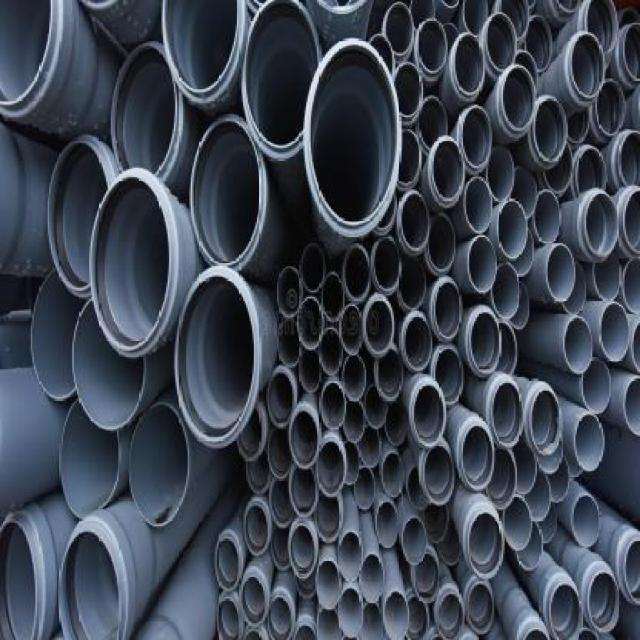pipe: (303, 40, 402, 239), (89, 168, 177, 359), (174, 266, 262, 448), (242, 2, 322, 162), (189, 114, 266, 271), (109, 42, 183, 187), (46, 137, 112, 297), (71, 299, 147, 430), (162, 0, 245, 103), (128, 403, 190, 529), (30, 269, 88, 400), (58, 397, 120, 519), (2, 0, 64, 117), (59, 527, 122, 640), (0, 520, 37, 640), (497, 66, 535, 139), (428, 137, 465, 208), (466, 511, 503, 580), (583, 193, 619, 259), (569, 34, 605, 100), (532, 97, 566, 166), (460, 423, 494, 491), (491, 380, 524, 448), (396, 191, 430, 256), (468, 309, 502, 374), (412, 383, 446, 448), (529, 391, 562, 457), (452, 32, 485, 97), (586, 571, 620, 634), (421, 443, 454, 506), (548, 583, 584, 640), (485, 12, 518, 74), (288, 409, 321, 471), (485, 449, 518, 511), (462, 105, 493, 170), (414, 97, 448, 154), (583, 0, 617, 57), (425, 214, 456, 276), (497, 200, 528, 260), (599, 303, 630, 363), (596, 78, 627, 137), (400, 314, 431, 373), (562, 317, 593, 376), (394, 63, 423, 125), (434, 347, 465, 405), (574, 414, 605, 472), (240, 566, 269, 628), (433, 282, 462, 342), (267, 368, 296, 428), (214, 531, 242, 593), (545, 243, 574, 302), (237, 403, 266, 462), (243, 497, 271, 557), (463, 176, 492, 233), (467, 236, 496, 293), (491, 263, 520, 320), (363, 299, 392, 356), (523, 16, 552, 73), (417, 19, 446, 76), (385, 1, 414, 57), (582, 358, 611, 414), (317, 440, 345, 498), (502, 495, 531, 551), (396, 129, 422, 191), (288, 523, 316, 580), (486, 146, 514, 202), (372, 237, 400, 293), (466, 580, 494, 636), (396, 259, 425, 313), (571, 495, 600, 548), (534, 191, 562, 245), (523, 468, 551, 522), (576, 148, 607, 196), (497, 0, 530, 45), (509, 166, 537, 219), (289, 466, 317, 519), (343, 245, 369, 302), (543, 143, 572, 194), (515, 520, 543, 571), (412, 554, 440, 605), (593, 253, 622, 302), (540, 455, 569, 503), (297, 297, 323, 350), (377, 349, 403, 402), (217, 591, 245, 640), (562, 262, 587, 316), (268, 426, 293, 480), (337, 588, 363, 639), (277, 266, 302, 319), (269, 477, 294, 530), (315, 558, 340, 611), (617, 132, 640, 188), (437, 593, 465, 639), (339, 531, 364, 582), (360, 552, 385, 603), (402, 516, 428, 565), (383, 590, 409, 639), (314, 495, 340, 543), (300, 245, 325, 294), (622, 537, 640, 604), (277, 320, 302, 368), (319, 328, 344, 376), (342, 355, 367, 403), (320, 382, 345, 430), (622, 188, 640, 254), (340, 305, 363, 356), (439, 516, 462, 567), (368, 32, 394, 77), (322, 274, 345, 323), (245, 449, 270, 494), (514, 445, 536, 496), (266, 597, 292, 640), (376, 502, 399, 550), (622, 21, 640, 81), (508, 282, 530, 331), (406, 594, 429, 640), (423, 503, 449, 543), (363, 385, 386, 430), (382, 452, 405, 497), (623, 377, 640, 437), (622, 258, 640, 313), (358, 425, 380, 470), (406, 466, 428, 511), (354, 466, 376, 511), (343, 402, 366, 444), (462, 0, 488, 37), (385, 403, 407, 446), (359, 603, 384, 640), (300, 351, 322, 393), (535, 502, 557, 544), (271, 528, 291, 573), (566, 108, 589, 145), (410, 0, 436, 32), (342, 440, 360, 486), (317, 607, 342, 640)
